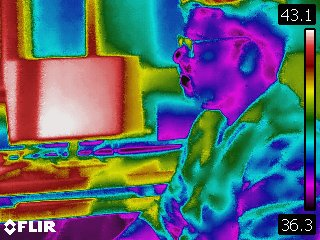human: (160, 1, 298, 240)
